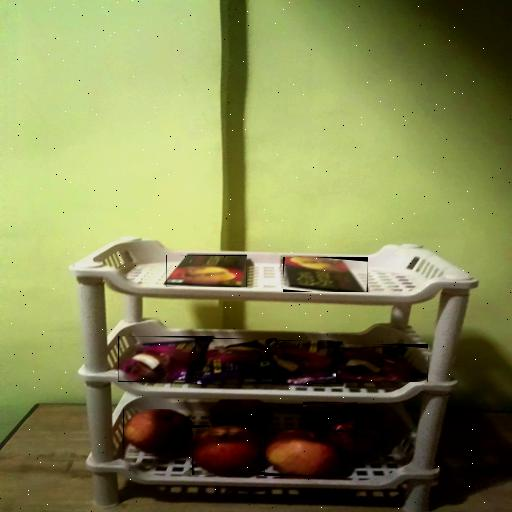Apple: (192, 425, 266, 475), (264, 430, 343, 476), (123, 410, 192, 456), (210, 399, 274, 433), (303, 402, 357, 425)
Choco Fills: (283, 257, 368, 292), (166, 255, 247, 287)
Choco Pie: (118, 336, 212, 382), (336, 344, 428, 382), (197, 340, 276, 383), (268, 340, 343, 384)
